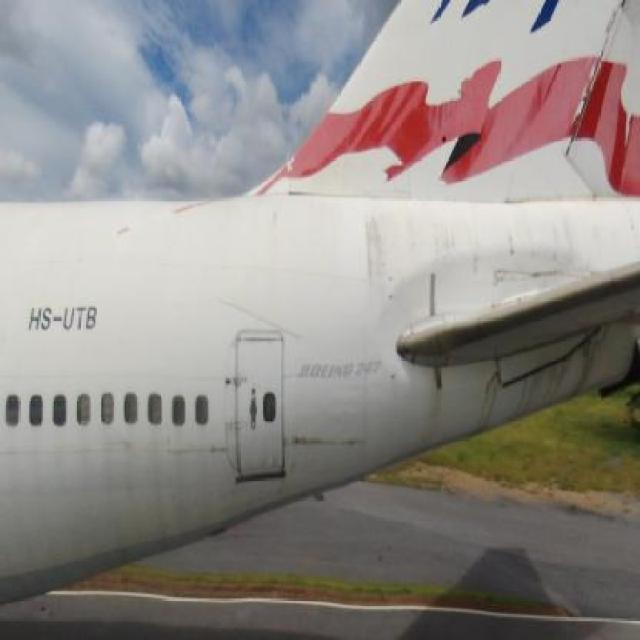Rust: (482, 334, 616, 423), (358, 195, 414, 322), (496, 202, 590, 266), (406, 353, 459, 458), (419, 200, 487, 275), (340, 425, 380, 470), (289, 423, 334, 460), (268, 196, 295, 256), (203, 437, 237, 475), (239, 329, 287, 351)
Scartch: (491, 260, 566, 288)
